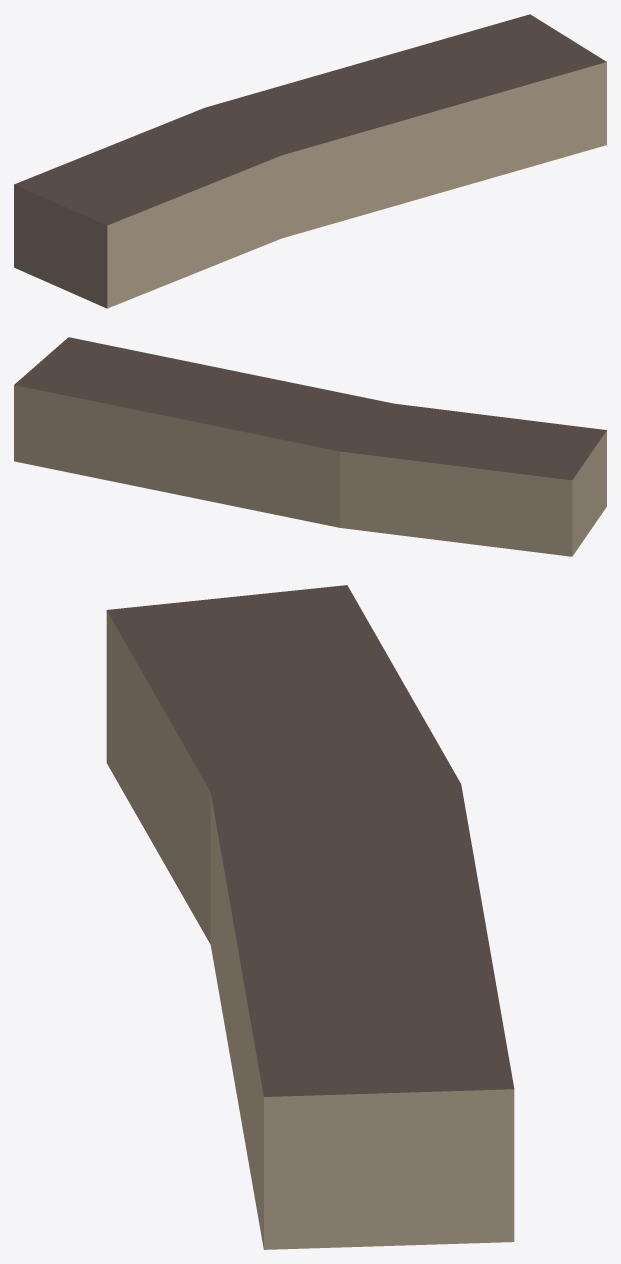
The picture shows the model from 3 angles, top to bottom: view 1: azimuth 30°, elevation 25°; view 2: azimuth 150°, elevation 25°; view 3: azimuth 270°, elevation 25°; orthographic projection. The views are drawn at different scales.
Visible parts, largest first — view 1: HP-w859457400; view 2: HP-w859457400; view 3: HP-w859457400.
Part boxes in pixels (box(x1,y1,x2,y2)): HP-w859457400: box(14, 14, 606, 308); HP-w859457400: box(14, 337, 606, 556); HP-w859457400: box(106, 585, 514, 1249).
Size of the model in its own units: 64.65 by 9 by 21.76.
